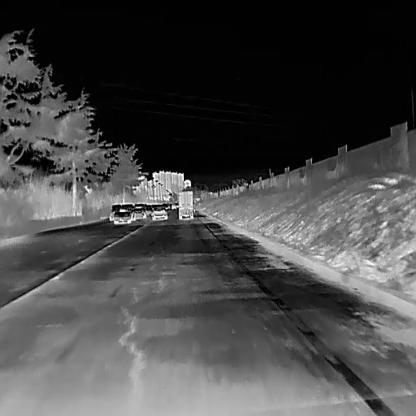car: (177, 188, 194, 219), (113, 204, 132, 223), (151, 204, 167, 219), (134, 202, 147, 218), (124, 202, 135, 220)
